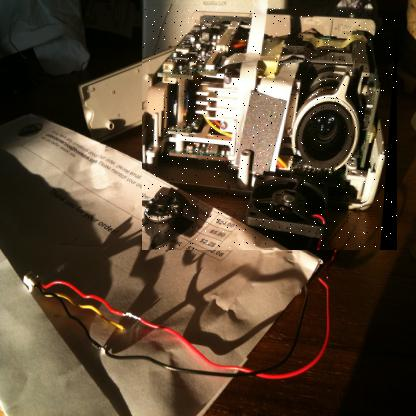Camera: (143, 8, 399, 252)
